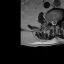CCS_stenosis: (53, 19, 55, 26)
LFS_severe_stenosis: (57, 18, 59, 25)
LLS_normal: (55, 19, 57, 25)
RFS_normal: (49, 19, 51, 25)
RLS_normal: (51, 19, 53, 26)
